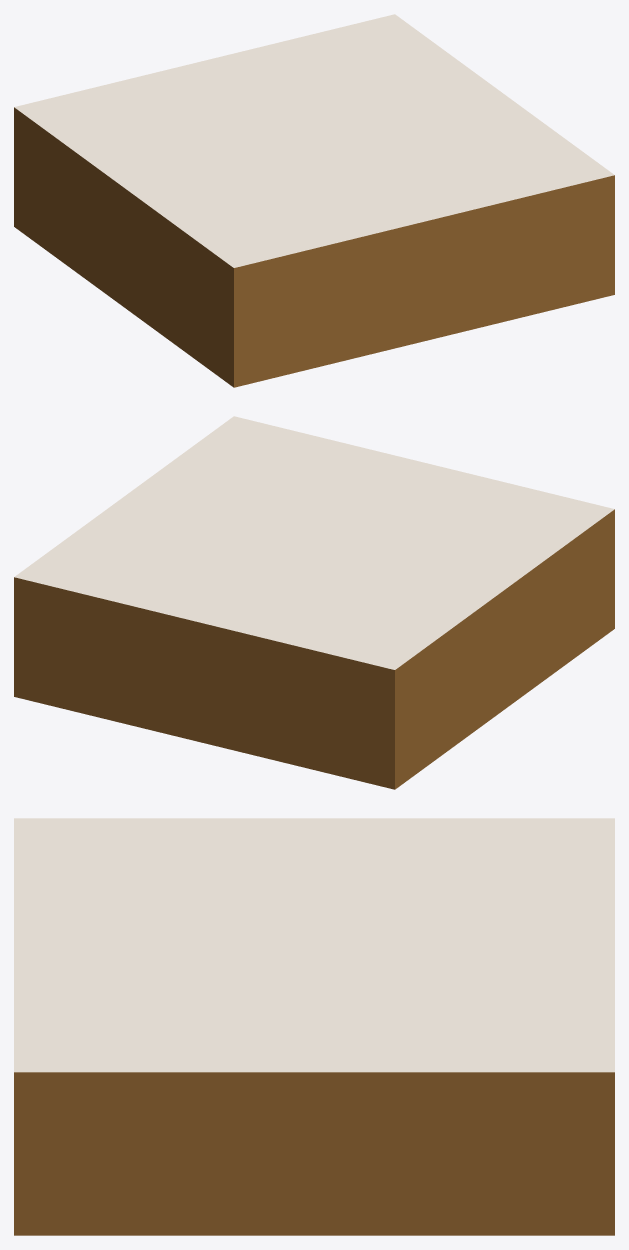
The model's file is floor_basic7.fbx.
The picture shows the model from 3 angles, top to bottom: view 1: azimuth 30°, elevation 25°; view 2: azimuth 150°, elevation 25°; view 3: azimuth 270°, elevation 25°; orthographic projection. The views are drawn at different scales.
Parts seen in each view (by area): view 1: floor_basic7; view 2: floor_basic7; view 3: floor_basic7.
Boxes of the visible parts, x1=… form: floor_basic7: x1=14, y1=14, x2=614, y2=387; floor_basic7: x1=14, y1=416, x2=614, y2=789; floor_basic7: x1=14, y1=818, x2=614, y2=1235.
Bounding box in the file's own units: 100 × 100 × 30.
